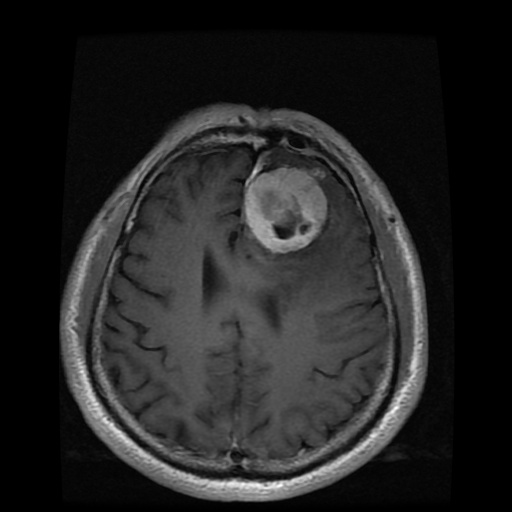meningioma: (244, 168, 327, 253)
